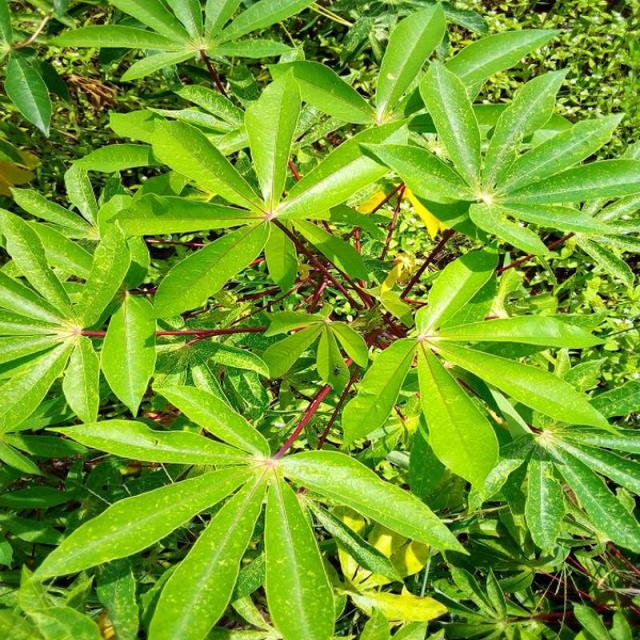cassava leaf: (2, 2, 638, 637), (29, 374, 470, 638)
